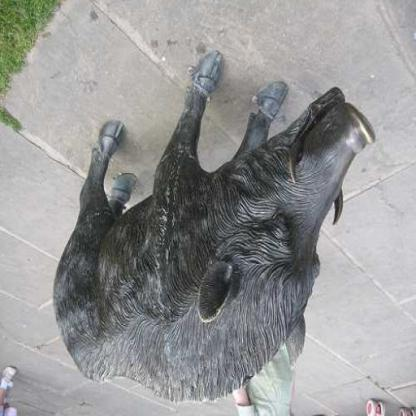boar: (47, 24, 400, 399)
